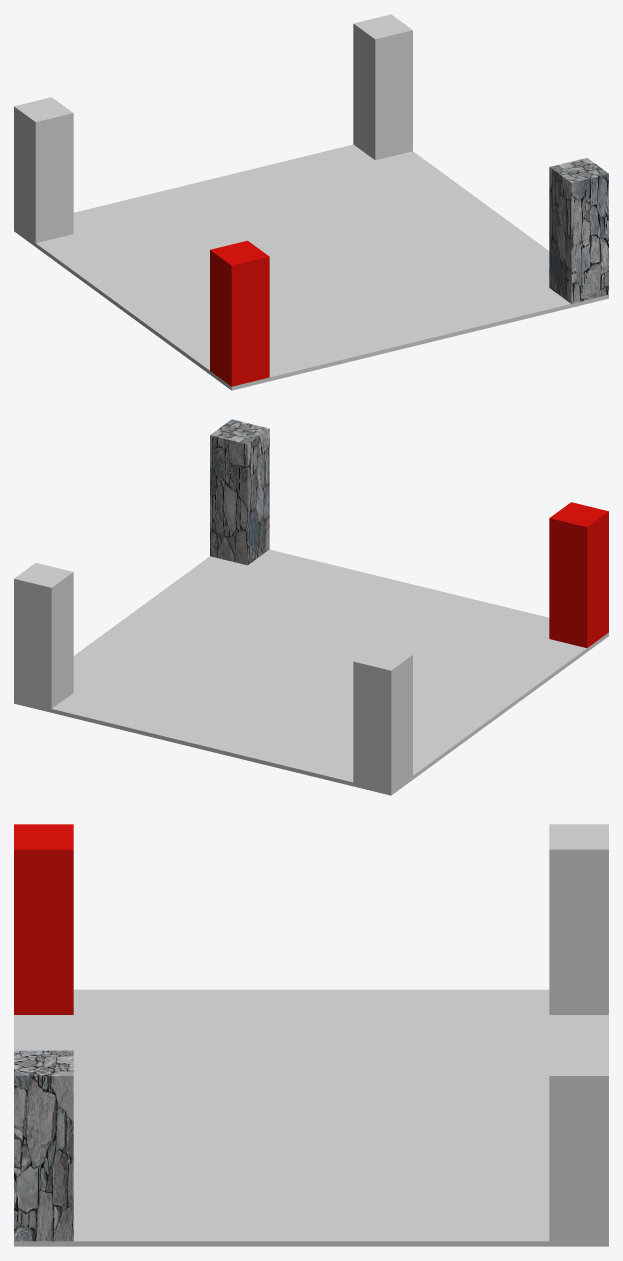
The model's file is castle.glb.
3 renders of one model, top to bottom at view 1: azimuth 30°, elevation 25°; view 2: azimuth 150°, elevation 25°; view 3: azimuth 270°, elevation 25°, orthographic. The views are drawn at different scales.
Parts seen in each view (by area): view 1: Cube, Cube.002, Cube.001, Cube.003, Cube.004; view 2: Cube, Cube.001, Cube.002, Cube.004, Cube.003; view 3: Cube, Cube.001, Cube.002, Cube.003, Cube.004.
Boxes of the visible parts, left/top/right/bottom form: Cube: left=14, top=144, right=608, bottom=390; Cube.002: left=353, top=14, right=412, bottom=160; Cube.001: left=549, top=158, right=608, bottom=303; Cube.003: left=14, top=97, right=73, bottom=242; Cube.004: left=210, top=240, right=269, bottom=386; Cube: left=14, top=549, right=608, bottom=795; Cube.001: left=210, top=419, right=269, bottom=565; Cube.002: left=14, top=563, right=73, bottom=708; Cube.004: left=549, top=502, right=608, bottom=647; Cube.003: left=353, top=645, right=412, bottom=791; Cube: left=14, top=989, right=608, bottom=1246; Cube.001: left=14, top=1050, right=73, bottom=1241; Cube.002: left=549, top=1050, right=608, bottom=1241; Cube.003: left=549, top=824, right=608, bottom=1014; Cube.004: left=14, top=824, right=73, bottom=1014.
Size of the model in its own units: 20 by 6.33 by 20.
Materials: 2 (1 with a texture image).
